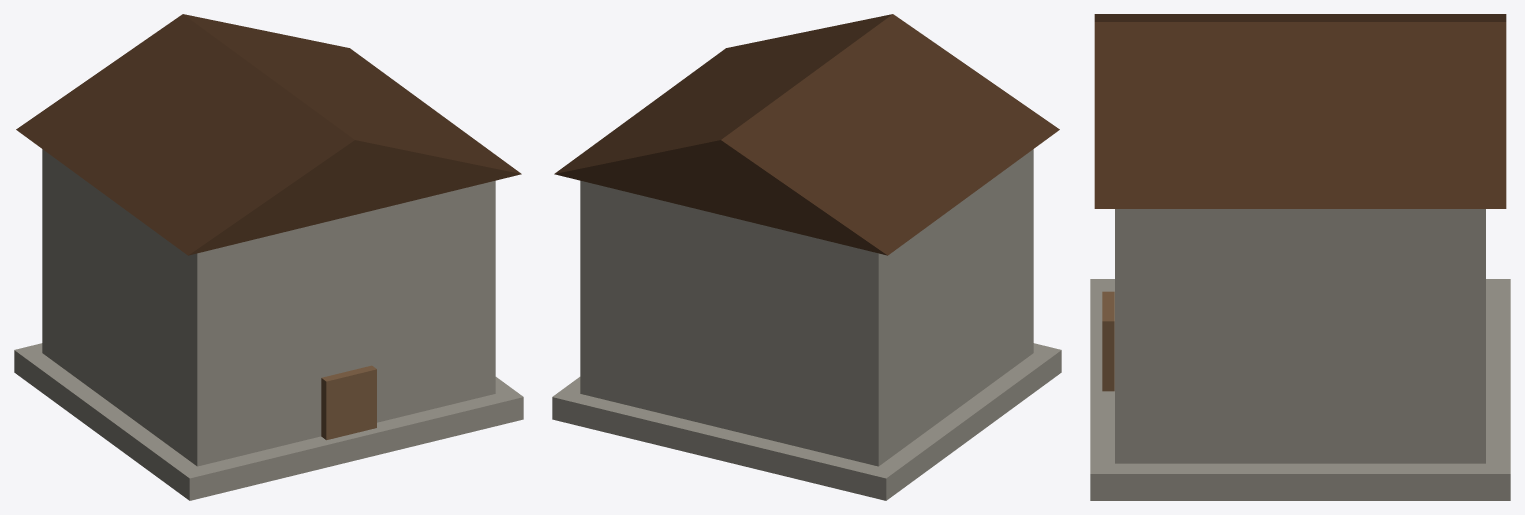
File: bld_residential_a02_lod1.glb
3 renders of one model, left to right at view 1: azimuth 30°, elevation 25°; view 2: azimuth 150°, elevation 25°; view 3: azimuth 270°, elevation 25°, orthographic. The views are drawn at different scales.
Parts seen in each view (by area): view 1: body; view 2: body; view 3: body.
Boxes of the visible parts, x1,y1,x2,y2 form: body: [14, 14, 523, 500]; body: [552, 14, 1061, 500]; body: [1090, 14, 1510, 500].
Bounding box in the file's own units: 5.6 × 5.11 × 5.1.
